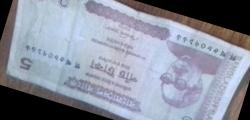5 taka: (17, 3, 239, 117)
